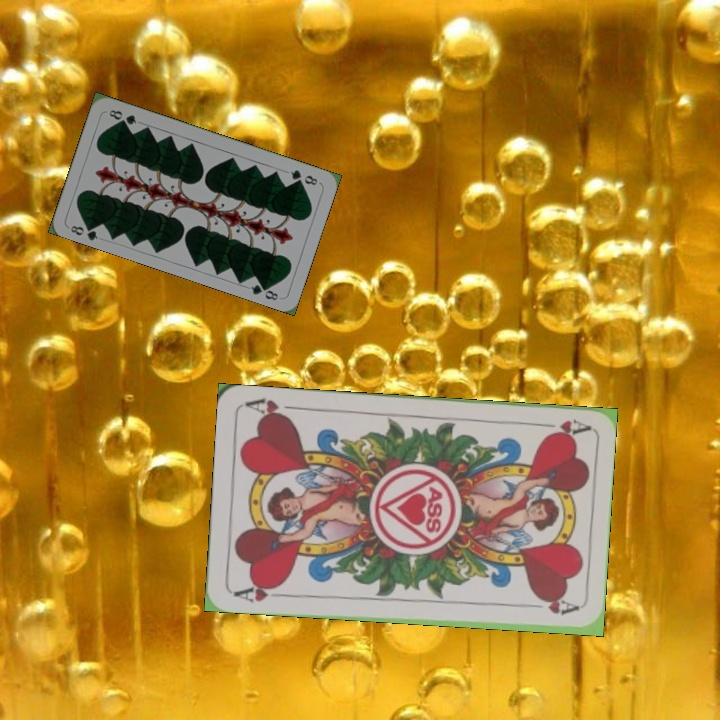G8: (66, 219, 100, 243), (286, 166, 320, 188)
HA: (230, 579, 289, 605), (531, 416, 590, 440)
